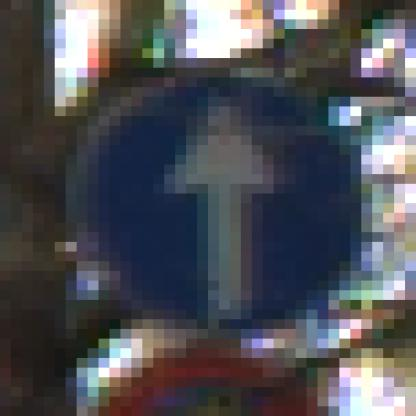AheadOnly: (56, 49, 362, 369)
